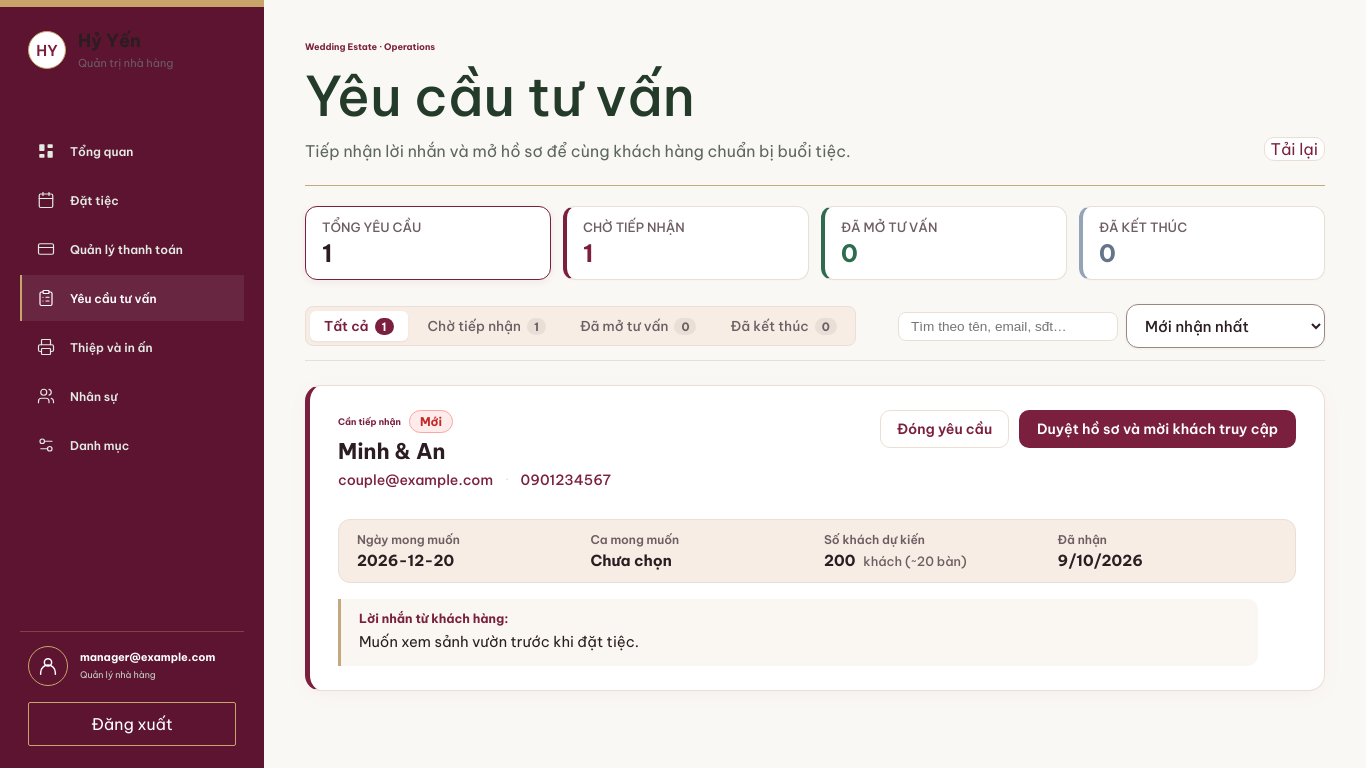
Consultation navigation › disables duplicate actions while closing a request and refreshes the closed state
Click the button "Đóng yêu cầu" at (944, 429), box x1=880 y1=410 x2=1009 y2=448
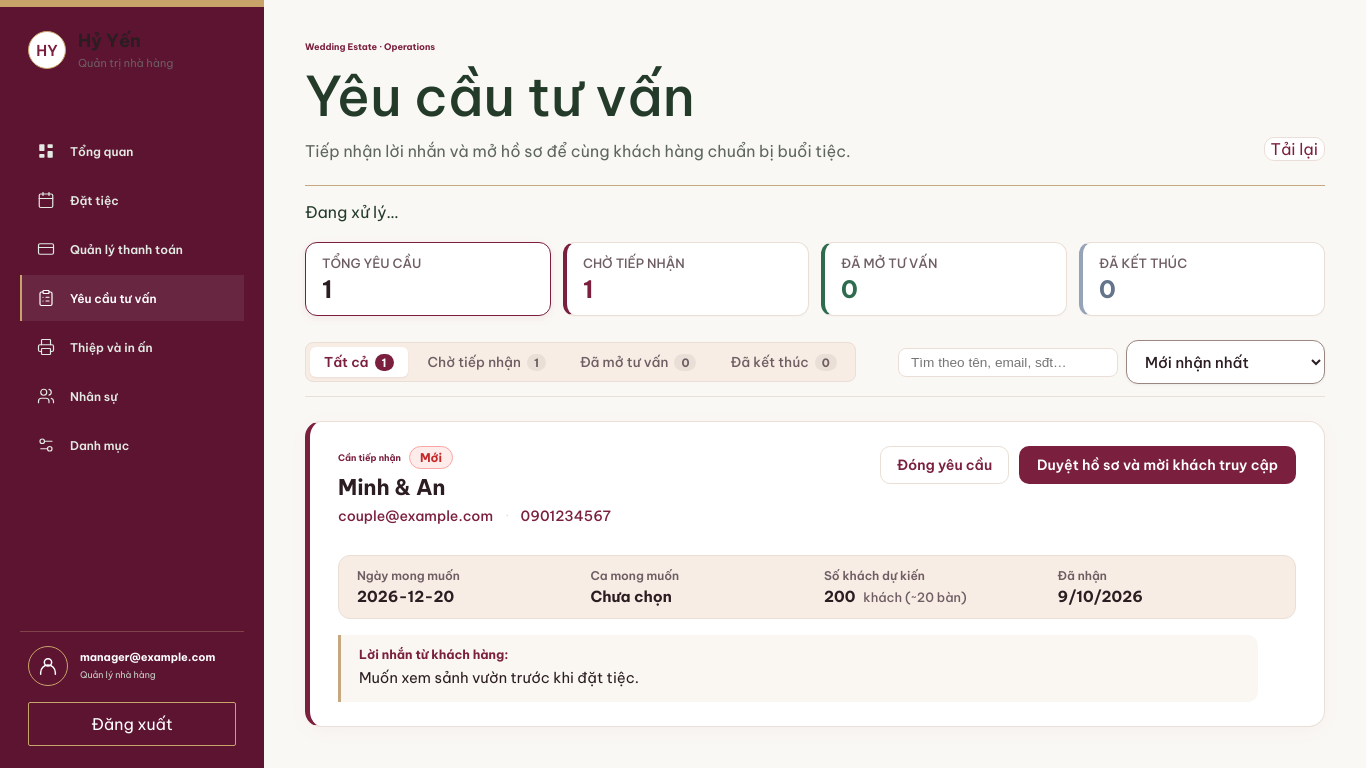
Now the button "Đóng yêu cầu" is disabled
Now the button with aria-label "Mở hồ sơ tư vấn" is disabled, box x1=1019 y1=446 x2=1296 y2=484
Click the button "Đóng yêu cầu" at (944, 465), box x1=880 y1=446 x2=1009 y2=484
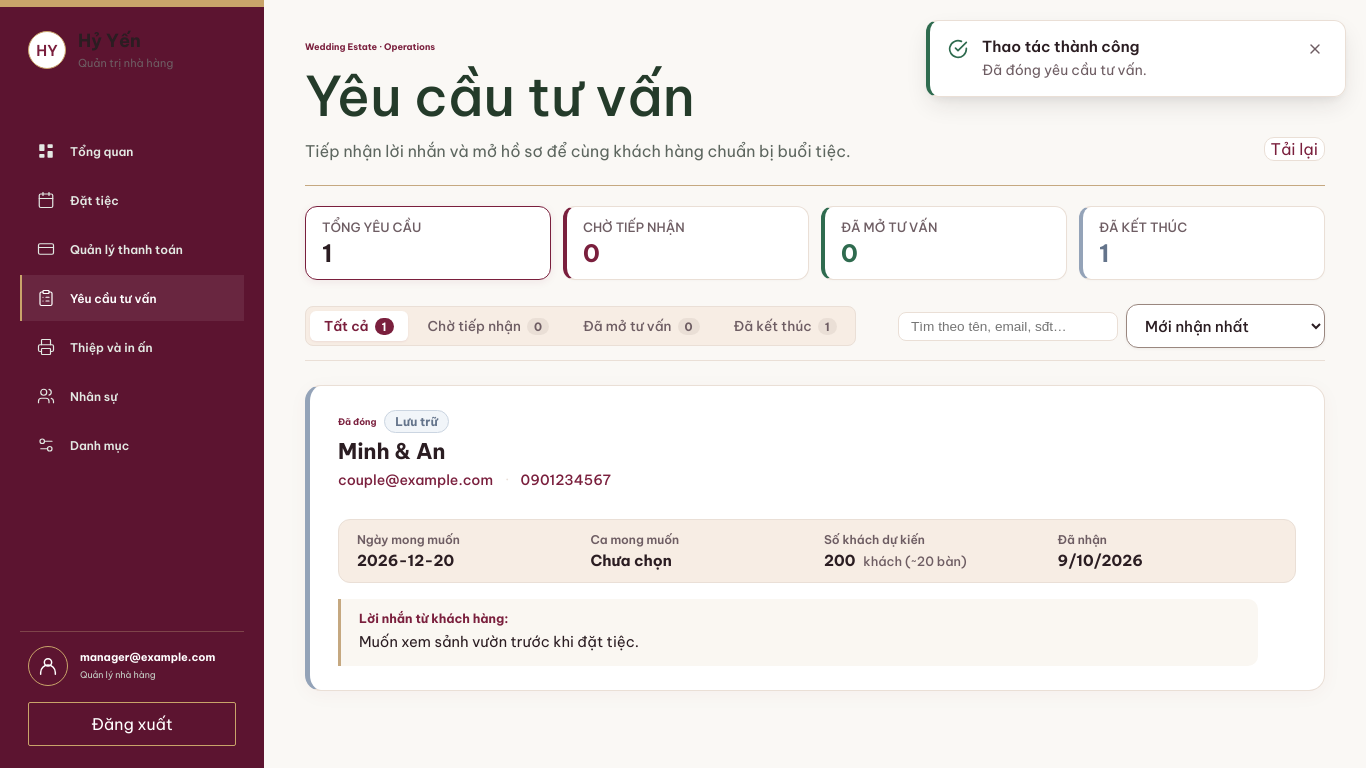
Now the text "Đã đóng yêu cầu tư vấn." is shown, box x1=982 y1=61 x2=1147 y2=79
Now the text "Đã đóng" is shown, box x1=338 y1=416 x2=376 y2=427
